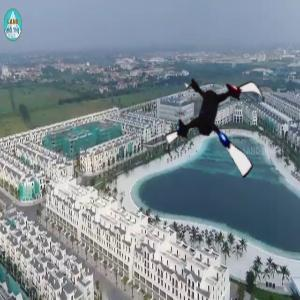drone: (160, 67, 278, 185)
